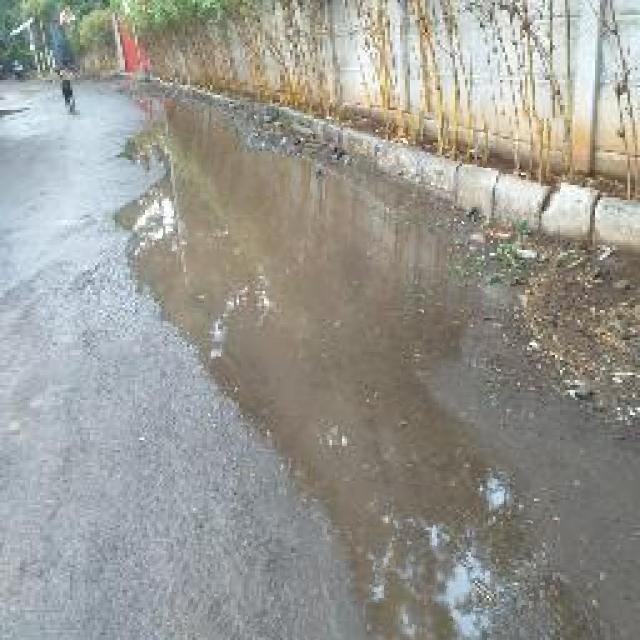puddle: (133, 103, 558, 640)
